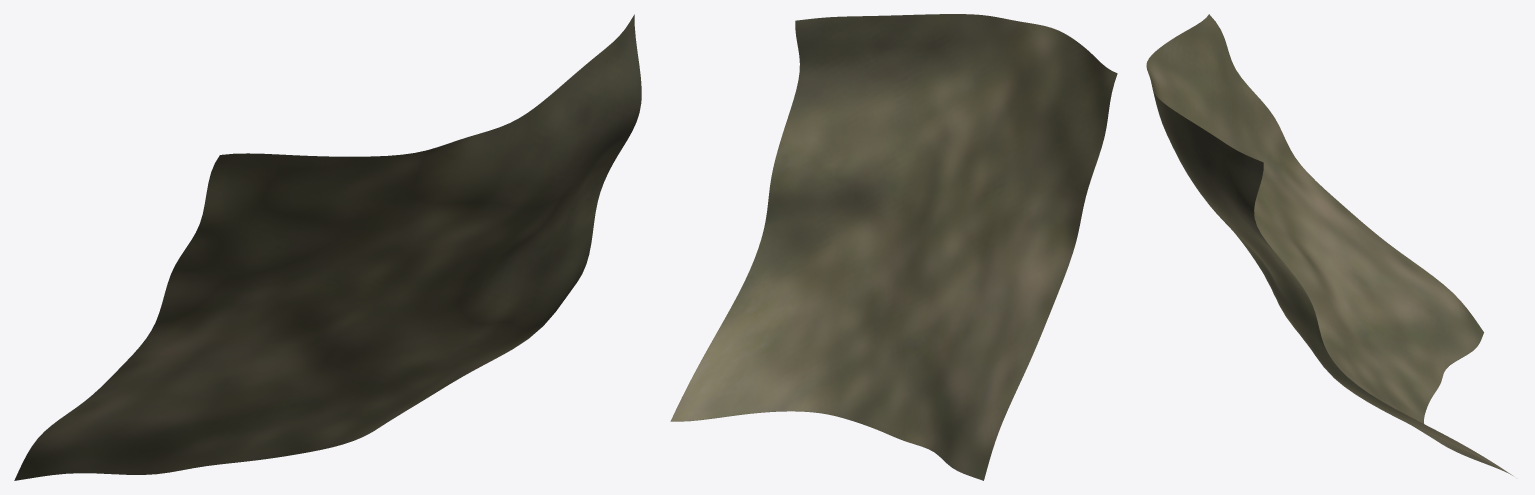
File: ground_mid_04_08.obj
3 renders of one model, left to right at view 1: azimuth 30°, elevation 25°; view 2: azimuth 150°, elevation 25°; view 3: azimuth 270°, elevation 25°, orthographic. The views are drawn at different scales.
Parts seen in each view (by area): view 1: ground_mid_04_08; view 2: ground_mid_04_08; view 3: ground_mid_04_08.
Part boxes in pixels (left/top/right/bottom): ground_mid_04_08: left=14, top=14, right=641, bottom=480; ground_mid_04_08: left=670, top=14, right=1117, bottom=480; ground_mid_04_08: left=1146, top=14, right=1512, bottom=475.
Size of the model in its own units: 200 by 200 by 213.
Materials: 1 (1 with a texture image).
